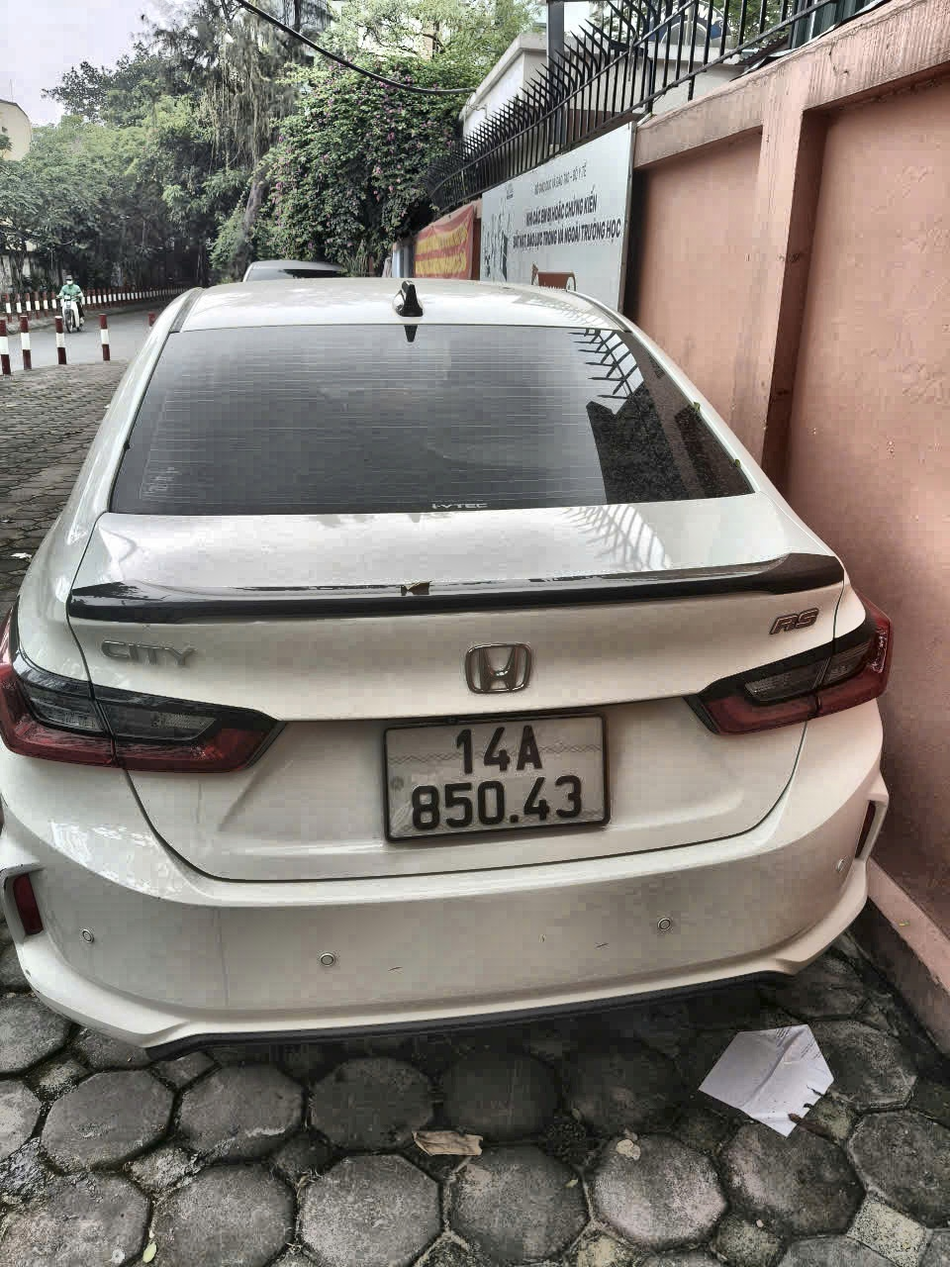plate: (95, 635, 200, 671)
